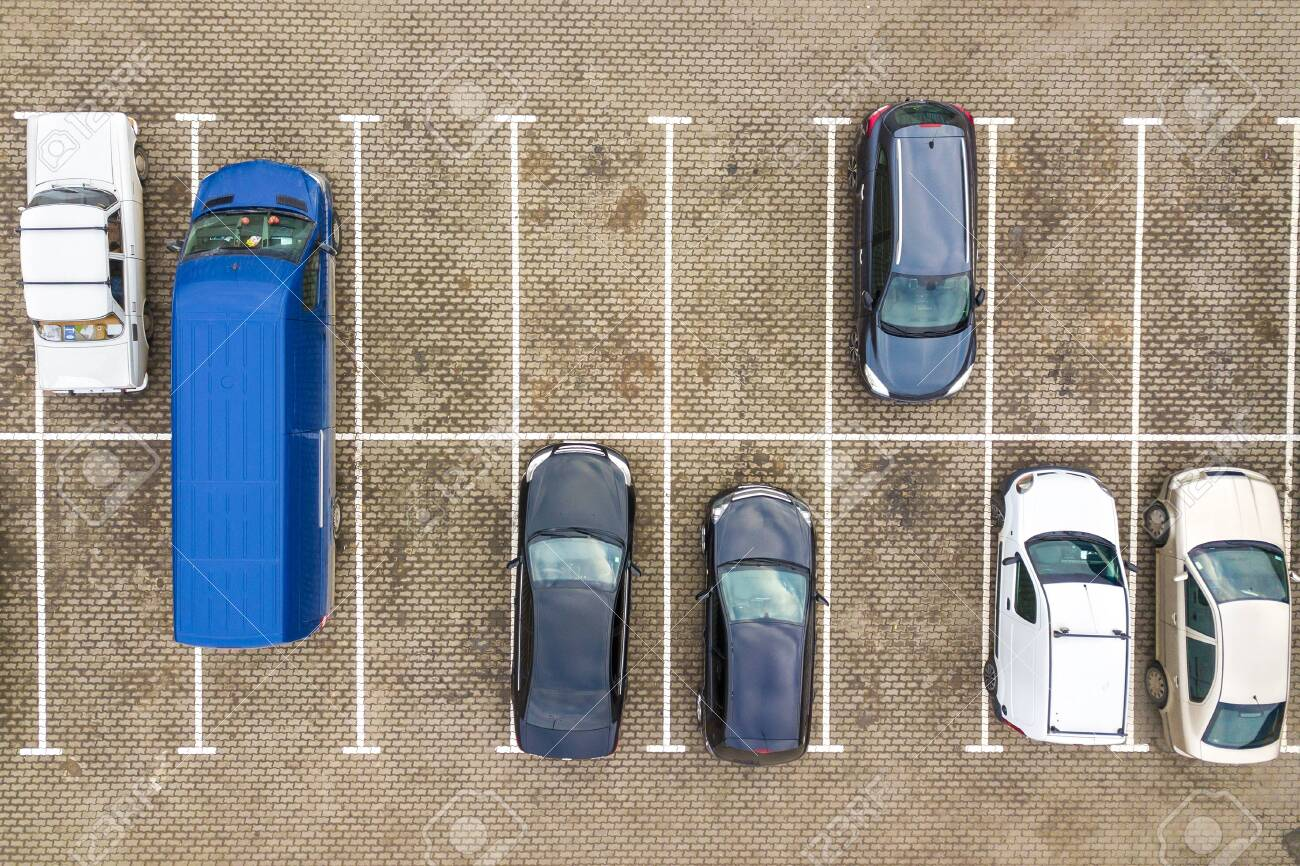Car: (986, 460, 1141, 760), (504, 435, 642, 763), (1147, 461, 1295, 766), (847, 91, 983, 405), (691, 478, 822, 769), (33, 103, 154, 403)
LaneMark: (976, 124, 1002, 748), (352, 430, 1299, 446), (351, 116, 369, 747), (821, 121, 837, 747), (1125, 118, 1150, 517), (660, 118, 673, 748), (32, 440, 50, 760), (508, 124, 521, 440), (1, 429, 167, 450), (187, 648, 207, 752), (183, 107, 203, 179)
